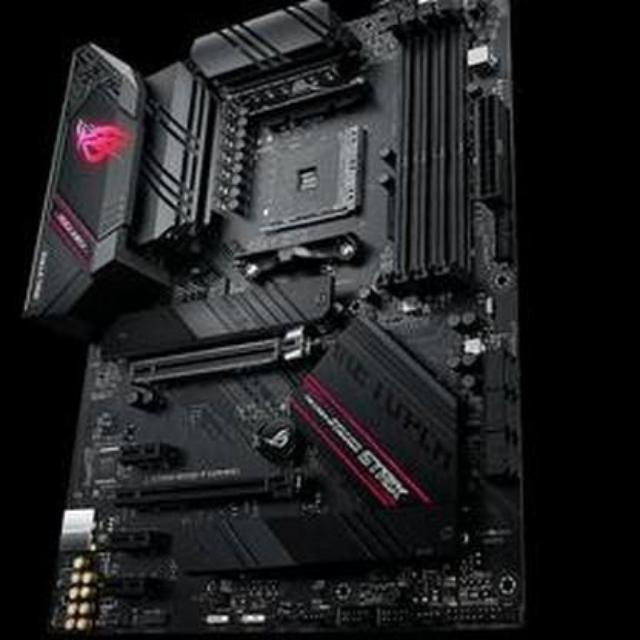Mainboard: (36, 0, 530, 637)
